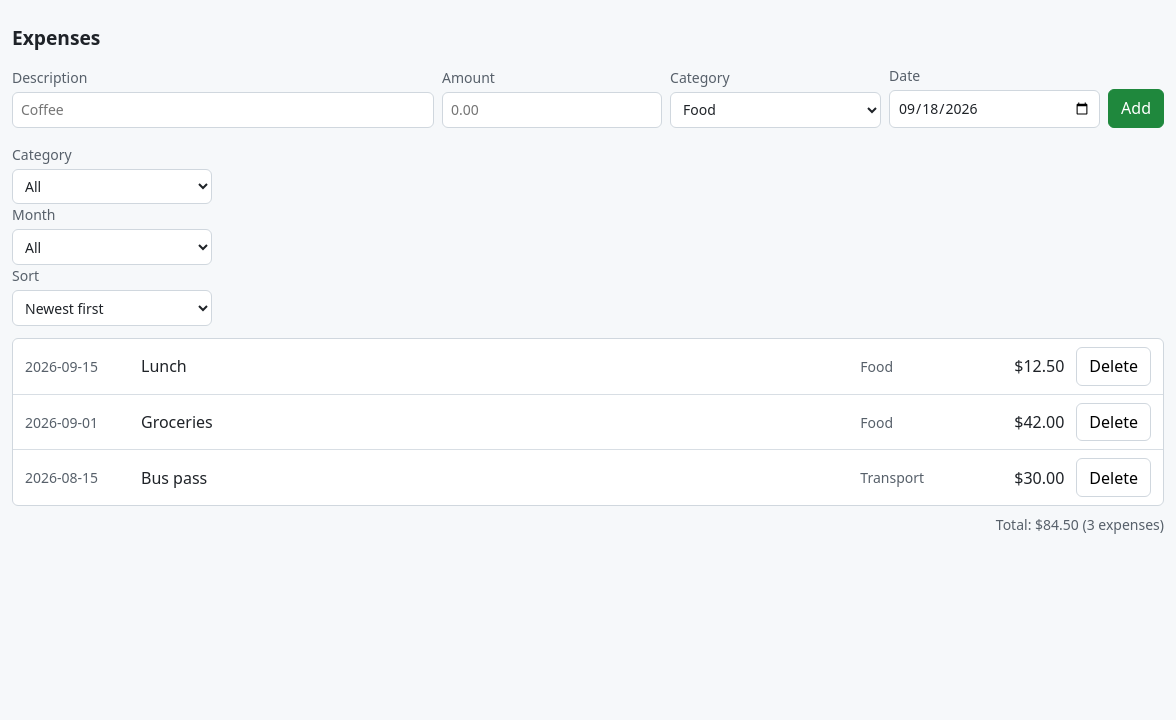
it: ExpenseList › filters expenses by selected month
Expected: the number of list items is 3, [13,339,1163,395]; [13,395,1163,450]; [13,450,1163,505]
// Select September 2026
Select "2026-09" in the dropdown labelled "Month" at (112, 247), box [12,229,212,265]
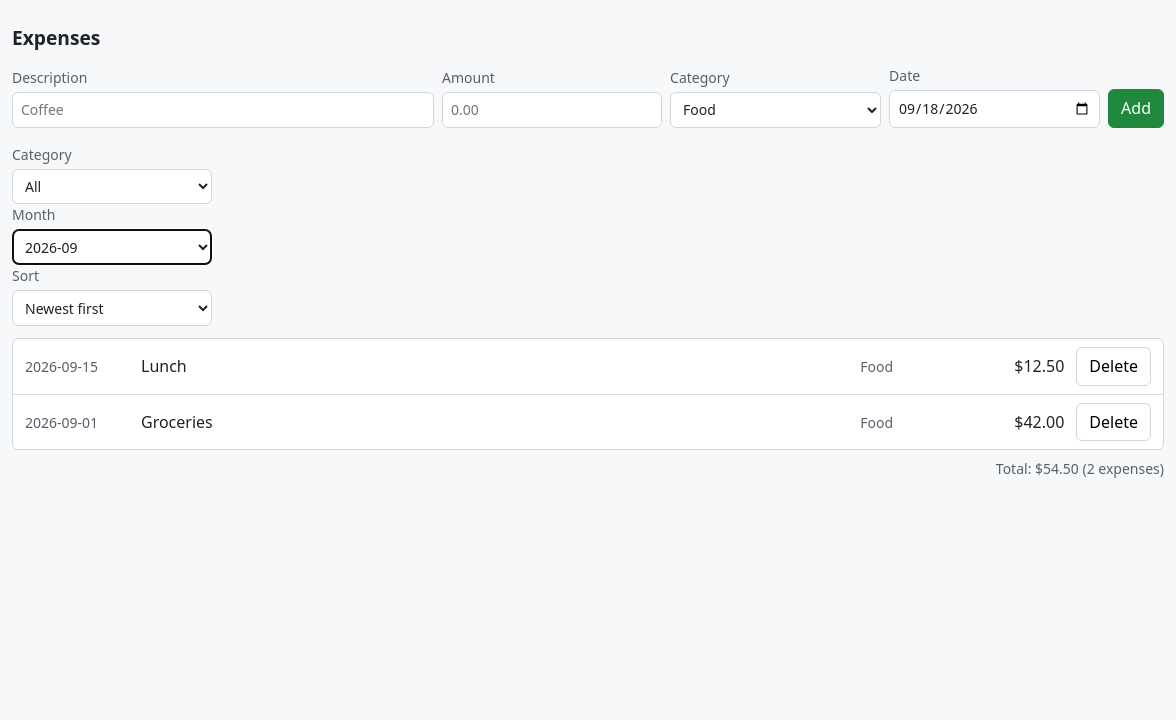
Expected: the text "Groceries" is shown, [141,411,213,433]
Now the number of list items is 2, box [13,339,1163,395]; [13,395,1163,450]
Now the text "Bus pass" is gone
